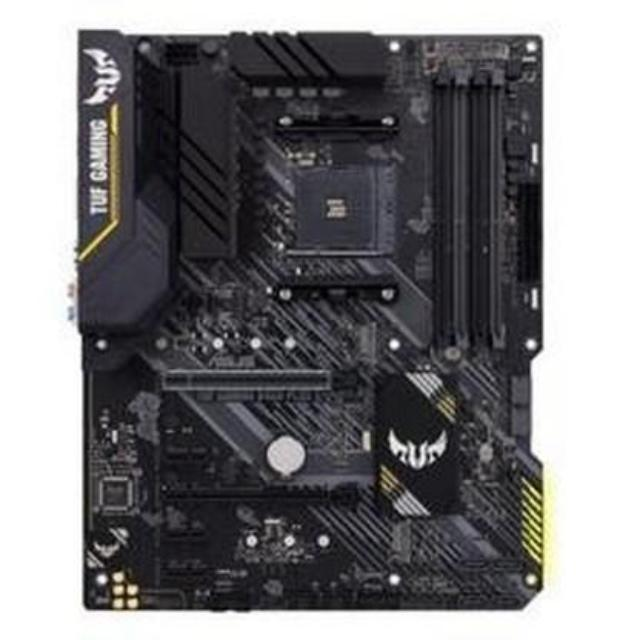Mainboard: (70, 21, 552, 624)
